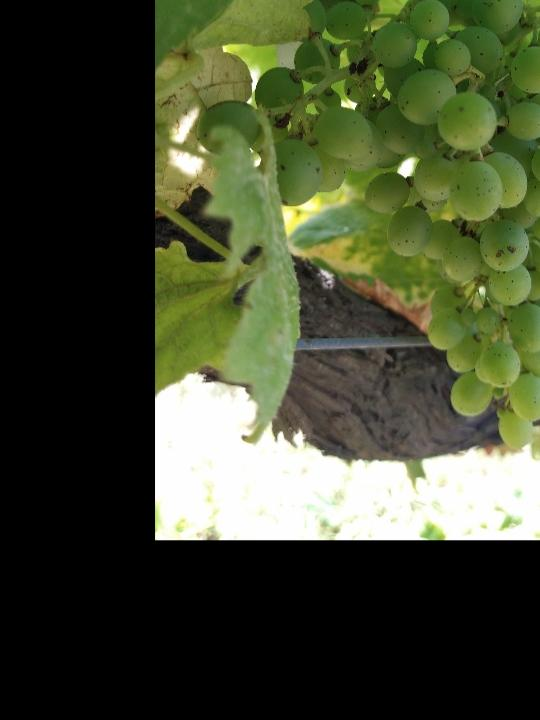grape: (196, 0, 540, 451)
